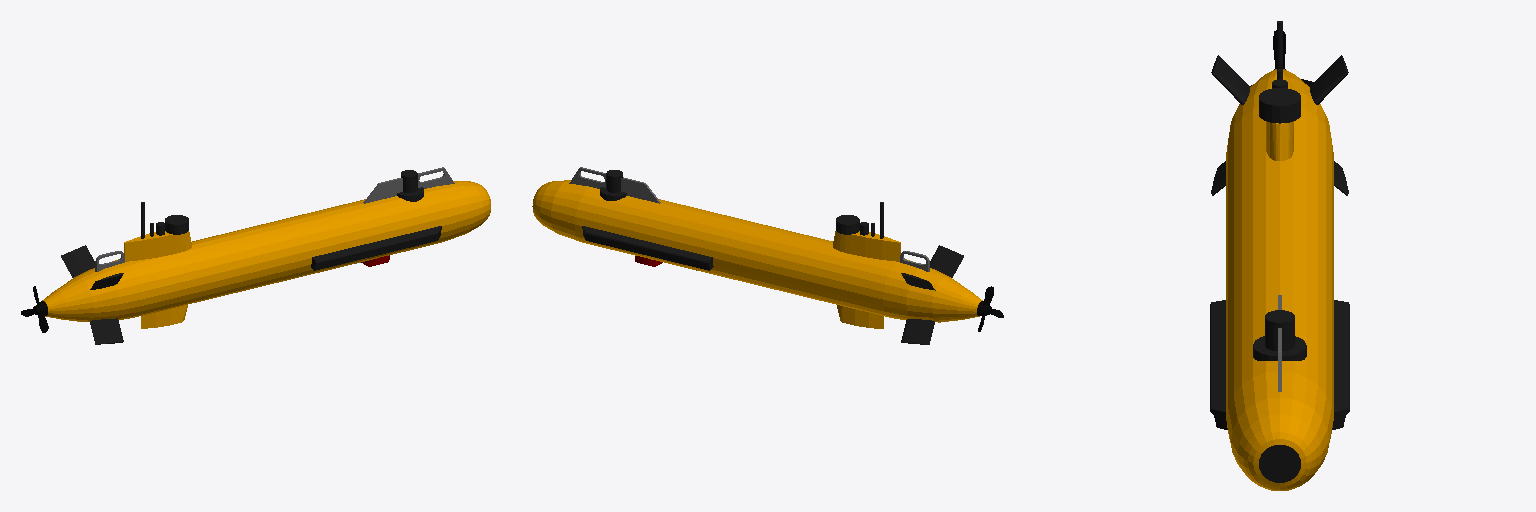
--- Facts derived from the render (not from the file) ---
Views: 3 orthographic renders of the robot side by side, from view 1: azimuth 30°, elevation 25°; view 2: azimuth 150°, elevation 25°; view 3: azimuth 270°, elevation 25°.
Robot: eca_a9 — 21 links, 20 joints (19 revolute, 1 continuous); root link eca_a9/base_link; default pose: every joint at zero.
Links seen in each view (by area): view 1: eca_a9/base_link, eca_a9/fin1, eca_a9/fin3; view 2: eca_a9/base_link, eca_a9/fin2, eca_a9/fin0; view 3: eca_a9/base_link, eca_a9/fin0, eca_a9/fin3.
Link boxes in pixels (x1,y1,x2,y2): eca_a9/base_link: [42, 167, 490, 328]; eca_a9/fin1: [90, 319, 123, 344]; eca_a9/fin3: [61, 245, 94, 275]; eca_a9/base_link: [532, 167, 982, 328]; eca_a9/fin2: [901, 320, 934, 344]; eca_a9/fin0: [930, 245, 963, 275]; eca_a9/base_link: [1210, 21, 1349, 490]; eca_a9/fin0: [1211, 55, 1247, 103]; eca_a9/fin3: [1312, 55, 1348, 103].
Size in the robot's own frame: 1.99 by 0.301 by 0.5295 metres.
6 mesh visuals loaded from 6 distinct referenced files (3 Collada DAE); not drawn: 3 (reference not matched to a file when rendering).

URDF robot description (eca_a9):
<?xml version="1.0" ?>
<!-- =================================================================================== -->
<!-- |    This document was autogenerated by xacro from eca_a9_default.urdf.xacro      | -->
<!-- |    EDITING THIS FILE BY HAND IS NOT RECOMMENDED                                 | -->
<!-- =================================================================================== -->
<!-- Copyright (c) 2016 The UUV Simulator Authors.
     All rights reserved.

     Licensed under the Apache License, Version 2.0 (the "License");
     you may not use this file except in compliance with the License.
     You may obtain a copy of the License at

       http://www.apache.org/licenses/LICENSE-2.0

     Unless required by applicable law or agreed to in writing, software
     distributed under the License is distributed on an "AS IS" BASIS,
     WITHOUT WARRANTIES OR CONDITIONS OF ANY KIND, either express or implied.
     See the License for the specific language governing permissions and
     limitations under the License.
-->
<robot name="eca_a9" xmlns:xacro="http://www.ros.org/wiki/xacro">
  <!-- Some pretty colors -->
  <material name="blue">
    <color rgba="0.0 0.0 0.8 1.0"/>
  </material>
  <material name="green">
    <color rgba="0.0 0.8 0.0 1.0"/>
  </material>
  <material name="grey">
    <color rgba="0.7 0.7 0.7 1.0"/>
  </material>
  <material name="grey2">
    <color rgba="0.9 0.9 0.9 1.0"/>
  </material>
  <material name="red">
    <color rgba="0.8 0.0 0.0 1.0"/>
  </material>
  <material name="orange">
    <color rgba="1.0 0.5 0.0 1.0"/>
  </material>
  <material name="white">
    <color rgba="1.0 1.0 1.0 1.0"/>
  </material>
  <material name="black">
    <color rgba="0.05 0.05 0.05 1.0"/>
  </material>
  <!-- <xacro:macro name="fin_macro" params="namespace fin_id *origin">
      <xacro:fin_quadratic_macro
        namespace="${namespace}"
        parent_link="${namespace}/base_link"
        fin_id="${fin_id}"
        min_joint_limit="${-45*d2r}"
        max_joint_limit="${45*d2r}"
        mesh_filename="${fin_mesh_file}"
        fin_dynamics_time_constant="0.1"
        lift_constant="7.2"        
        drag_constant="6.3"   
        current_velocity_topic="current_velocity">
        <xacro:insert_block name="origin"/>
      </xacro:fin_quadratic_macro>
    </xacro:macro> -->
  <!-- ROTOR DYNAMICS MACROS -->
  <!-- First order dynamics -->
  <!--
    MACROS FOR CONVERSION FUNCTIONS BETWEEN ROTOR'S ANG. VELOCITY AND
    THRUSTER FORCE
  -->
  <!-- THRUSTER MODULE MACROS  -->
  <!--
    Thruster model with first order dynamic model for the rotor dynamics
    and a proportional non-linear steady-state conversion from the rotor's
    angular velocity to output thrust force
  -->
  <link name="eca_a9/base_link">
    <visual>
      <origin rpy="0 0 0" xyz="0 0 0"/>
      <geometry>
        <mesh filename="meshes/eca_a9.dae" scale="1 1 1"/>
      </geometry>
    </visual>
    <collision>
      <origin rpy="0 0 0" xyz="0 0 0"/>
      <geometry>
        <mesh filename="meshes/eca_a9.dae" scale="1 1 1"/>
      </geometry>
    </collision>
    <inertial>
      <mass value="69.7"/>
      <origin rpy="0 0 0" xyz="0 0 0"/>
      <inertia ixx="0.6" ixy="0" ixz="0" iyy="30.0" iyz="0" izz="35.0"/>
    </inertial>
  </link>
  <!-- Set up hydrodynamic plugin -->
  <gazebo>
    <plugin filename="libunderwater_object_ros_plugin.so" name="eca_a9_uuv_plugin">
      <fluid_density>1027.0</fluid_density>
      <flow_velocity_topic>hydrodynamics/current_velocity</flow_velocity_topic>
      <debug>0</debug>
      <link name="eca_a9/base_link">
        <volume>0.0679998770412</volume>
        <center_of_buoyancy>0 0 0.06</center_of_buoyancy>
        <neutrally_buoyant>0</neutrally_buoyant>
        <hydrodynamic_model>
          <type>fossen</type>
          <added_mass>
              4   0   0   0   0   0
              0   95  0   0   0   0
              0   0   75  0   0   0
              0   0   0   0.4 0   0
              0   0   0   0   27  0
              0   0   0   0   0   32
            </added_mass>
          <linear_damping_forward_speed>
              -8      0       0       0       0       0
              0       -162    0       0       0       150
              0       0       -108    0       -100    0
              0       0       0       -13     0       0
              0       0       37      0       -20     0
              0       -34     0       0       0       -32
            </linear_damping_forward_speed>
        </hydrodynamic_model>
      </link>
    </plugin>
  </gazebo>
  <joint name="eca_a9/fin0_joint" type="revolute">
    <limit effort="0" lower="-1.3962632" upper="1.3962632" velocity="0"/>
    <origin rpy="0.7904 -0.0998 -0.1003" xyz="-0.70777 -0.07876 0.078586"/>
    <axis xyz="0 0 1"/>
    <parent link="eca_a9/base_link"/>
    <child link="eca_a9/fin0"/>
  </joint>
  <link name="eca_a9/fin0">
    <inertial>
      <mass value="0.0001"/>
      <origin rpy="0 0 0" xyz="0 0 0"/>
      <inertia ixx="0.0" ixy="0.0" ixz="0.0" iyy="0.0" iyz="0.0" izz="0.0"/>
    </inertial>
    <visual>
      <origin rpy="0 0 0" xyz="0 0 0"/>
      <geometry>
        <mesh filename="meshes/eca_a9_fin.dae" scale="1 1 1"/>
      </geometry>
    </visual>
  </link>
  <gazebo>
    <plugin filename="libfin_ros_plugin.so" name="eca_a9_fin0_model">
      <dynamics>
        <type>FirstOrder</type>
        <timeConstant>0.1</timeConstant>
      </dynamics>
      <liftdrag>
        <type>TwoLines</type>
        <area>0.04155</area>
        <fluid_density>1027.0</fluid_density>
        <a0>0.0</a0>
        <alpha_stall>0.174533</alpha_stall>
        <cla>13.98</cla>
        <!-- ^= 0.244 when using deg -->
        <cla_stall>0.0</cla_stall>
        <cda>0.0</cda>
        <cda_stall></cda_stall>
      </liftdrag>
      <current_velocity_topic>current_velocity</current_velocity_topic>
      <fin_id>0</fin_id>
      <link_name>eca_a9/fin0</link_name>
      <joint_name>eca_a9/fin0_joint</joint_name>
    </plugin>
  </gazebo>
  <joint name="eca_a9/fin1_joint" type="revolute">
    <limit effort="0" lower="-1.3962632" upper="1.3962632" velocity="0"/>
    <origin rpy="2.3512 0.0998 -0.1003" xyz="-0.70777 -0.07876 -0.078586"/>
    <axis xyz="0 0 1"/>
    <parent link="eca_a9/base_link"/>
    <child link="eca_a9/fin1"/>
  </joint>
  <link name="eca_a9/fin1">
    <inertial>
      <mass value="0.0001"/>
      <origin rpy="0 0 0" xyz="0 0 0"/>
      <inertia ixx="0.0" ixy="0.0" ixz="0.0" iyy="0.0" iyz="0.0" izz="0.0"/>
    </inertial>
    <visual>
      <origin rpy="0 0 0" xyz="0 0 0"/>
      <geometry>
        <mesh filename="meshes/eca_a9_fin.dae" scale="1 1 1"/>
      </geometry>
    </visual>
  </link>
  <gazebo>
    <plugin filename="libfin_ros_plugin.so" name="eca_a9_fin1_model">
      <dynamics>
        <type>FirstOrder</type>
        <timeConstant>0.1</timeConstant>
      </dynamics>
      <liftdrag>
        <type>TwoLines</type>
        <area>0.04155</area>
        <fluid_density>1027.0</fluid_density>
        <a0>0.0</a0>
        <alpha_stall>0.174533</alpha_stall>
        <cla>13.98</cla>
        <!-- ^= 0.244 when using deg -->
        <cla_stall>0.0</cla_stall>
        <cda>0.0</cda>
        <cda_stall></cda_stall>
      </liftdrag>
      <current_velocity_topic>current_velocity</current_velocity_topic>
      <fin_id>1</fin_id>
      <link_name>eca_a9/fin1</link_name>
      <joint_name>eca_a9/fin1_joint</joint_name>
    </plugin>
  </gazebo>
  <joint name="eca_a9/fin2_joint" type="revolute">
    <limit effort="0" lower="-1.3962632" upper="1.3962632" velocity="0"/>
    <origin rpy="-2.3512 0.0998 0.1003" xyz="-0.70777 0.07876 -0.078586"/>
    <axis xyz="0 0 1"/>
    <parent link="eca_a9/base_link"/>
    <child link="eca_a9/fin2"/>
  </joint>
  <link name="eca_a9/fin2">
    <inertial>
      <mass value="0.0001"/>
      <origin rpy="0 0 0" xyz="0 0 0"/>
      <inertia ixx="0.0" ixy="0.0" ixz="0.0" iyy="0.0" iyz="0.0" izz="0.0"/>
    </inertial>
    <visual>
      <origin rpy="0 0 0" xyz="0 0 0"/>
      <geometry>
        <mesh filename="meshes/eca_a9_fin.dae" scale="1 1 1"/>
      </geometry>
    </visual>
  </link>
  <gazebo>
    <plugin filename="libfin_ros_plugin.so" name="eca_a9_fin2_model">
      <dynamics>
        <type>FirstOrder</type>
        <timeConstant>0.1</timeConstant>
      </dynamics>
      <liftdrag>
        <type>TwoLines</type>
        <area>0.04155</area>
        <fluid_density>1027.0</fluid_density>
        <a0>0.0</a0>
        <alpha_stall>0.174533</alpha_stall>
        <cla>13.98</cla>
        <!-- ^= 0.244 when using deg -->
        <cla_stall>0.0</cla_stall>
        <cda>0.0</cda>
        <cda_stall></cda_stall>
      </liftdrag>
      <current_velocity_topic>current_velocity</current_velocity_topic>
      <fin_id>2</fin_id>
      <link_name>eca_a9/fin2</link_name>
      <joint_name>eca_a9/fin2_joint</joint_name>
    </plugin>
  </gazebo>
  <joint name="eca_a9/fin3_joint" type="revolute">
    <limit effort="0" lower="-1.3962632" upper="1.3962632" velocity="0"/>
    <origin rpy="-0.7904 -0.0998 0.1003" xyz="-0.70777 0.07876 0.078586"/>
    <axis xyz="0 0 1"/>
    <parent link="eca_a9/base_link"/>
    <child link="eca_a9/fin3"/>
  </joint>
  <link name="eca_a9/fin3">
    <inertial>
      <mass value="0.0001"/>
      <origin rpy="0 0 0" xyz="0 0 0"/>
      <inertia ixx="0.0" ixy="0.0" ixz="0.0" iyy="0.0" iyz="0.0" izz="0.0"/>
    </inertial>
    <visual>
      <origin rpy="0 0 0" xyz="0 0 0"/>
      <geometry>
        <mesh filename="meshes/eca_a9_fin.dae" scale="1 1 1"/>
      </geometry>
    </visual>
  </link>
  <gazebo>
    <plugin filename="libfin_ros_plugin.so" name="eca_a9_fin3_model">
      <dynamics>
        <type>FirstOrder</type>
        <timeConstant>0.1</timeConstant>
      </dynamics>
      <liftdrag>
        <type>TwoLines</type>
        <area>0.04155</area>
        <fluid_density>1027.0</fluid_density>
        <a0>0.0</a0>
        <alpha_stall>0.174533</alpha_stall>
        <cla>13.98</cla>
        <!-- ^= 0.244 when using deg -->
        <cla_stall>0.0</cla_stall>
        <cda>0.0</cda>
        <cda_stall></cda_stall>
      </liftdrag>
      <current_velocity_topic>current_velocity</current_velocity_topic>
      <fin_id>3</fin_id>
      <link_name>eca_a9/fin3</link_name>
      <joint_name>eca_a9/fin3_joint</joint_name>
    </plugin>
  </gazebo>
  <joint name="eca_a9/thruster_0_joint" type="continuous">
    <origin rpy="0 0 3.14159265359" xyz="-0.9676 0 0"/>
    <axis xyz="1 0 0"/>
    <parent link="eca_a9/base_link"/>
    <child link="eca_a9/thruster_0"/>
  </joint>
  <link name="eca_a9/thruster_0">
    <inertial>
      <mass value="0.001"/>
      <origin rpy="0 0 0" xyz="0 0 0"/>
      <inertia ixx="0.0" ixy="0.0" ixz="0.0" iyy="0.0" iyz="0.0" izz="0.0"/>
    </inertial>
    <visual>
      <origin rpy="0 0 0" xyz="0 0 0"/>
      <geometry>
        <mesh filename="meshes/eca_a9_propeller.dae" scale="1 1 1"/>
      </geometry>
    </visual>
    <collision>
      <!-- todo: gazebo needs a collision volume or it will ignore the pose of
           the joint that leads to this link (and assume it to be the identity) -->
      <geometry>
        <cylinder length="0.000001" radius="0.000001"/>
      </geometry>
      <origin rpy="0 0 0" xyz="0 0 0"/>
    </collision>
  </link>
  <gazebo>
    <plugin filename="libthruster_ros_plugin.so" name="eca_a9_0_thruster_model">
      <linkName>eca_a9/thruster_0</linkName>
      <jointName>eca_a9/thruster_0_joint</jointName>
      <thrusterID>0</thrusterID>
      <dynamics>
        <type>FirstOrder</type>
        <timeConstant>0.1</timeConstant>
      </dynamics>
      <conversion>
        <type>Basic</type>
        <rotorConstant>4.9e-05</rotorConstant>
      </conversion>
    </plugin>
  </gazebo>
  <gazebo reference="eca_a9/thruster_0">
    <selfCollide>false</selfCollide>
  </gazebo>
  <link name="eca_a9/battery_link">
    <inertial>
      <inertia ixx="0.00001" ixy="0.0" ixz="0.0" iyy="0.00001" iyz="0.0" izz="0.00001"/>
      <mass value="0.001"/>
      <origin rpy="0 0 0" xyz="0 0 0"/>
    </inertial>
  </link>
  <joint name="eca_a9/battery_joint" type="revolute">
    <origin rpy="0 0 0" xyz="0 0 0"/>
    <parent link="eca_a9/base_link"/>
    <child link="eca_a9/battery_link"/>
    <axis xyz="1 0 0"/>
    <limit effort="0" lower="0" upper="0" velocity="0"/>
  </joint>
  <gazebo reference="eca_a9/battery_link">
    <battery name="eca_a9/battery">
      <voltage>4.2</voltage>
    </battery>
  </gazebo>
  <gazebo>
    <plugin filename="liblinear_battery_ros_plugin.so" name="eca_a9_linear_battery_ros_plugin">
      <namespace>eca_a9</namespace>
      <link_name>eca_a9/battery_link</link_name>
      <battery_name>eca_a9/battery</battery_name>
      <open_circuit_voltage_constant_coef>3.7</open_circuit_voltage_constant_coef>
      <open_circuit_voltage_linear_coef>-3.1424</open_circuit_voltage_linear_coef>
      <initial_charge>1.1665</initial_charge>
      <capacity>0.5</capacity>
      <resistance>0.002</resistance>
      <smooth_current_tau>1.9499</smooth_current_tau>
      <update_rate>2.0</update_rate>
    </plugin>
  </gazebo>
  <!-- Mount a 3D pose sensor -->
  <link name="eca_a9/pose_sensor_link_default">
    <inertial>
      <inertia ixx="0.00001" ixy="0.0" ixz="0.0" iyy="0.00001" iyz="0.0" izz="0.00001"/>
      <mass value="0.001"/>
      <!-- [kg] -->
      <origin rpy="0 0 0" xyz="0 0 0"/>
    </inertial>
  </link>
  <joint name="eca_a9/pose_sensor_default_joint" type="revolute">
    <origin rpy="0 0 0" xyz="0 0 0"/>
    <axis xyz="0 0 1"/>
    <parent link="eca_a9/base_link"/>
    <child link="eca_a9/pose_sensor_link_default"/>
    <limit effort="0" lower="0" upper="0" velocity="0"/>
  </joint>
  <gazebo>
    <plugin filename="libuuv_gazebo_ros_pose_gt_plugin.so" name="pose_3d_plugin">
      <robot_namespace>eca_a9</robot_namespace>
      <link_name>eca_a9/base_link</link_name>
      <sensor_topic>pose_gt</sensor_topic>
      <static_reference_frame>world</static_reference_frame>
      <noise_sigma>0.0</noise_sigma>
      <noise_amplitude>0.0</noise_amplitude>
      <update_rate>20</update_rate>
      <enable_gazebo_messages>false</enable_gazebo_messages>
      <publish_ned_odom>false</publish_ned_odom>
    </plugin>
  </gazebo>
  <link name="eca_a9/dvl_link">
    <inertial>
      <mass value="0.001"/>
      <!-- [kg] -->
      <origin rpy="0 0 0" xyz="0 0 0"/>
      <inertia ixx="0.000000017" ixy="0" ixz="0" iyy="0.000000017" iyz="0" izz="0.000000017"/>
    </inertial>
    <visual>
      <geometry>
        <mesh filename="meshes/dvl.dae" scale="0.62 0.62 0.62"/>
      </geometry>
    </visual>
    <collision>
      <geometry>
        <cylinder length="1e-06" radius="1e-06"/>
      </geometry>
      <origin rpy="0 1.57079632679 0" xyz="0 0 0"/>
    </collision>
  </link>
  <joint name="eca_a9/dvl_joint" type="revolute">
    <origin rpy="0 1.57079632679 0" xyz="0.4785 0.0 -0.0825"/>
    <parent link="eca_a9/base_link"/>
    <child link="eca_a9/dvl_link"/>
    <limit effort="0" lower="0" upper="0" velocity="0"/>
    <axis xyz="1 0 0"/>
  </joint>
  <link name="eca_a9/dvl_sonar0_link">
    <inertial>
      <mass value="0.001"/>
      <!-- [kg] -->
      <origin rpy="0 0 0" xyz="0 0 0"/>
      <inertia ixx="0.000000017" ixy="0" ixz="0" iyy="0.000000017" iyz="0" izz="0.000000017"/>
    </inertial>
    <collision>
      <geometry>
        <cylinder length="1e-06" radius="1e-06"/>
      </geometry>
      <origin rpy="0 1.57079632679 0" xyz="0 0 0"/>
    </collision>
  </link>
  <joint name="eca_a9/dvl_sonar0_joint" type="revolute">
    <origin rpy="0 -0.52 0.0" xyz="0 0 0"/>
    <parent link="eca_a9/dvl_link"/>
    <child link="eca_a9/dvl_sonar0_link"/>
    <limit effort="0" lower="0" upper="0" velocity="0"/>
    <axis xyz="1 0 0"/>
  </joint>
  <gazebo reference="eca_a9/dvl_sonar0_link">
    <sensor name="dvl_sonar0" type="ray">
      <pose>0 0 0 0 0 0</pose>
      <update_rate>1</update_rate>
      <visualize>false</visualize>
      <ray>
        <scan>
          <horizontal>
            <samples>3</samples>
            <resolution>1</resolution>
            <min_angle>-0.03</min_angle>
            <max_angle>0.03</max_angle>
          </horizontal>
          <vertical>
            <samples>3</samples>
            <resolution>1</resolution>
            <min_angle>-0.03</min_angle>
            <max_angle>0.03</max_angle>
          </vertical>
        </scan>
        <range>
          <min>0.55</min>
          <max>81</max>
          <resolution>0.01</resolution>
        </range>
      </ray>
      <plugin filename="libgazebo_ros_range.so" name="dvl_sonar0">
        <gaussianNoise>0.005</gaussianNoise>
        <alwaysOn>true</alwaysOn>
        <updateRate>1</updateRate>
        <topicName>dvl_sonar0</topicName>
        <frameName>eca_a9/dvl_sonar0_link</frameName>
        <fov>0.06</fov>
        <radiation>ultrasound</radiation>
      </plugin>
    </sensor>
  </gazebo>
  <link name="eca_a9/dvl_sonar1_link">
    <inertial>
      <mass value="0.001"/>
      <!-- [kg] -->
      <origin rpy="0 0 0" xyz="0 0 0"/>
      <inertia ixx="0.000000017" ixy="0" ixz="0" iyy="0.000000017" iyz="0" izz="0.000000017"/>
    </inertial>
    <collision>
      <geometry>
        <cylinder length="1e-06" radius="1e-06"/>
      </geometry>
      <origin rpy="0 1.57079632679 0" xyz="0 0 0"/>
    </collision>
  </link>
  <joint name="eca_a9/dvl_sonar1_joint" type="revolute">
    <origin rpy="0 0 0.52" xyz="0 0 0"/>
    <parent link="eca_a9/dvl_link"/>
    <child link="eca_a9/dvl_sonar1_link"/>
    <limit effort="0" lower="0" upper="0" velocity="0"/>
    <axis xyz="1 0 0"/>
  </joint>
  <gazebo reference="eca_a9/dvl_sonar1_link">
    <sensor name="dvl_sonar1" type="ray">
      <pose>0 0 0 0 0 0</pose>
      <update_rate>1</update_rate>
      <visualize>false</visualize>
      <ray>
        <scan>
          <horizontal>
            <samples>3</samples>
            <resolution>1</resolution>
            <min_angle>-0.03</min_angle>
            <max_angle>0.03</max_angle>
          </horizontal>
          <vertical>
            <samples>3</samples>
            <resolution>1</resolution>
            <min_angle>-0.03</min_angle>
            <max_angle>0.03</max_angle>
          </vertical>
        </scan>
        <range>
          <min>0.55</min>
          <max>81</max>
          <resolution>0.01</resolution>
        </range>
      </ray>
      <plugin filename="libgazebo_ros_range.so" name="dvl_sonar1">
        <gaussianNoise>0.005</gaussianNoise>
        <alwaysOn>true</alwaysOn>
        <updateRate>1</updateRate>
        <topicName>dvl_sonar1</topicName>
        <frameName>eca_a9/dvl_sonar1_link</frameName>
        <fov>0.06</fov>
        <radiation>ultrasound</radiation>
      </plugin>
    </sensor>
  </gazebo>
  <link name="eca_a9/dvl_sonar2_link">
    <inertial>
      <mass value="0.001"/>
      <!-- [kg] -->
      <origin rpy="0 0 0" xyz="0 0 0"/>
      <inertia ixx="0.000000017" ixy="0" ixz="0" iyy="0.000000017" iyz="0" izz="0.000000017"/>
    </inertial>
    <collision>
      <geometry>
        <cylinder length="1e-06" radius="1e-06"/>
      </geometry>
      <origin rpy="0 1.57079632679 0" xyz="0 0 0"/>
    </collision>
  </link>
  <joint name="eca_a9/dvl_sonar2_joint" type="revolute">
    <origin rpy="0 0.52 0.0" xyz="0 0 0"/>
    <parent link="eca_a9/dvl_link"/>
    <child link="eca_a9/dvl_sonar2_link"/>
    <limit effort="0" lower="0" upper="0" velocity="0"/>
    <axis xyz="1 0 0"/>
  </joint>
  <gazebo reference="eca_a9/dvl_sonar2_link">
    <sensor name="dvl_sonar2" type="ray">
      <pose>0 0 0 0 0 0</pose>
      <update_rate>1</update_rate>
      <visualize>false</visualize>
      <ray>
        <scan>
          <horizontal>
            <samples>3</samples>
            <resolution>1</resolution>
            <min_angle>-0.03</min_angle>
            <max_angle>0.03</max_angle>
          </horizontal>
          <vertical>
            <samples>3</samples>
            <resolution>1</resolution>
            <min_angle>-0.03</min_angle>
            <max_angle>0.03</max_angle>
          </vertical>
        </scan>
        <range>
          <min>0.55</min>
          <max>81</max>
          <resolution>0.01</resolution>
        </range>
      </ray>
      <plugin filename="libgazebo_ros_range.so" name="dvl_sonar2">
        <gaussianNoise>0.005</gaussianNoise>
        <alwaysOn>true</alwaysOn>
        <updateRate>1</updateRate>
        <topicName>dvl_sonar2</topicName>
        <frameName>eca_a9/dvl_sonar2_link</frameName>
        <fov>0.06</fov>
        <radiation>ultrasound</radiation>
      </plugin>
    </sensor>
  </gazebo>
  <link name="eca_a9/dvl_sonar3_link">
    <inertial>
      <mass value="0.001"/>
      <!-- [kg] -->
      <origin rpy="0 0 0" xyz="0 0 0"/>
      <inertia ixx="0.000000017" ixy="0" ixz="0" iyy="0.000000017" iyz="0" izz="0.000000017"/>
    </inertial>
    <collision>
      <geometry>
        <cylinder length="1e-06" radius="1e-06"/>
      </geometry>
      <origin rpy="0 1.57079632679 0" xyz="0 0 0"/>
    </collision>
  </link>
  <joint name="eca_a9/dvl_sonar3_joint" type="revolute">
    <origin rpy="0 0.0 -0.52" xyz="0 0 0"/>
    <parent link="eca_a9/dvl_link"/>
    <child link="eca_a9/dvl_sonar3_link"/>
    <limit effort="0" lower="0" upper="0" velocity="0"/>
    <axis xyz="1 0 0"/>
  </joint>
  <gazebo reference="eca_a9/dvl_sonar3_link">
    <sensor name="dvl_sonar3" type="ray">
      <pose>0 0 0 0 0 0</pose>
      <update_rate>1</update_rate>
      <visualize>false</visualize>
      <ray>
        <scan>
          <horizontal>
            <samples>3</samples>
            <resolution>1</resolution>
            <min_angle>-0.03</min_angle>
            <max_angle>0.03</max_angle>
          </horizontal>
          <vertical>
            <samples>3</samples>
            <resolution>1</resolution>
            <min_angle>-0.03</min_angle>
            <max_angle>0.03</max_angle>
          </vertical>
        </scan>
        <range>
          <min>0.55</min>
          <max>81</max>
          <resolution>0.01</resolution>
        </range>
      </ray>
      <plugin filename="libgazebo_ros_range.so" name="dvl_sonar3">
        <gaussianNoise>0.005</gaussianNoise>
        <alwaysOn>true</alwaysOn>
        <updateRate>1</updateRate>
        <topicName>dvl_sonar3</topicName>
        <frameName>eca_a9/dvl_sonar3_link</frameName>
        <fov>0.06</fov>
        <radiation>ultrasound</radiation>
      </plugin>
    </sensor>
  </gazebo>
  <gazebo>
    <plugin filename="libuuv_gazebo_ros_dvl_plugin.so" name="libuuv_gazebo_dvl_plugin">
      <robot_namespace>eca_a9</robot_namespace>
      <!-- (string, required): ros namespace in which the messages are published -->
      <link_name>eca_a9/dvl_link</link_name>
      <!-- (string, required): name of the body which holds the IMU sensor -->
      <sensor_topic>dvl</sensor_topic>
      <!-- (string): name of the sensor output topic and prefix of service names -->
      <update_rate>7</update_rate>
      <!-- Update period [s] -->
      <noise_sigma>0</noise_sigma>
      <!-- std dev of position estimates in x, y, z [m/s] -->
      <noise_amplitude>0</noise_amplitude>
      <enable_gazebo_messages>false</enable_gazebo_messages>
      <enable_local_ned_frame>false</enable_local_ned_frame>
      <static_reference_frame>world</static_reference_frame>
      <!-- Declaring the beams -->
      <beam_link_name_0>eca_a9/dvl_sonar0_link</beam_link_name_0>
      <beam_link_name_1>eca_a9/dvl_sonar1_link</beam_link_name_1>
      <beam_link_name_2>eca_a9/dvl_sonar2_link</beam_link_name_2>
      <beam_link_name_3>eca_a9/dvl_sonar3_link</beam_link_name_3>
      <!-- Declaring the beam output topics -->
      <beam_topic_0>dvl_sonar0</beam_topic_0>
      <beam_topic_1>dvl_sonar1</beam_topic_1>
      <beam_topic_2>dvl_sonar2</beam_topic_2>
      <beam_topic_3>dvl_sonar3</beam_topic_3>
    </plugin>
  </gazebo>
  <gazebo>
    <plugin filename="libcustom_battery_consumer_ros_plugin.so" name="eca_a9/dvl_link_battery_consumer">
      <link_name>eca_a9/battery_link</link_name>
      <battery_name>eca_a9/battery</battery_name>
      <power_load>25</power_load>
      <topic_device_state>eca_a9/dvl/state</topic_device_state>
    </plugin>
  </gazebo>
  <!-- Sensor link -->
  <link name="eca_a9/sonarleft_link">
    <inertial>
      <inertia ixx="0.00001" ixy="0.0" ixz="0.0" iyy="0.00001" iyz="0.0" izz="0.00001"/>
      <mass value="0.015"/>
      <origin rpy="0 0 0" xyz="0 0 0"/>
    </inertial>
    <visual>
      <origin rpy="0 0 0" xyz="0 0 0"/>
      <geometry>
        <box size="0.001 0.001 0.001"/>
      </geometry>
    </visual>
    <collision>
      <geometry>
        <cylinder length="1e-06" radius="1e-06"/>
      </geometry>
      <origin rpy="0 1.57079632679 0" xyz="0 0 0"/>
    </collision>
  </link>
  <joint name="eca_a9_sonarleft_joint" type="revolute">
    <origin rpy="1.57079632679 0.959931101197 1.57079632679" xyz="0.41225 0.1498 -0.04615"/>
    <parent link="eca_a9/base_link"/>
    <child link="eca_a9/sonarleft_link"/>
    <limit effort="0" lower="0" upper="0" velocity="0"/>
    <axis xyz="1 0 0"/>
  </joint>
  <gazebo reference="eca_a9/sonarleft_link">
    <sensor name="sonarleft" type="gpu_ray">
      <pose>0 0 0 0 0 0</pose>
      <visualize>false</visualize>
      <update_rate>2</update_rate>
      <ray>
        <scan>
          <horizontal>
            <samples>60</samples>
            <resolution>1</resolution>
            <min_angle>-0.523598775598</min_angle>
            <max_angle>0.523598775598</max_angle>
          </horizontal>
        </scan>
        <range>
          <min>1.0</min>
          <max>200.0</max>
          <resolution>0.01</resolution>
        </range>
        <noise>
          <type>gaussian</type>
          <mean>0.0</mean>
          <stddev>0.027</stddev>
        </noise>
      </ray>
      <plugin filename="libgazebo_ros_gpu_laser.so" name="sonarleft_controller">
        <topicName>sss_left</topicName>
        <frameName>sonarleft_link</frameName>
      </plugin>
      <!-- TODO: Separate switchable sonar version in another macro -->
      <!-- <plugin name="switchable_sonar{suffix}_ros_interface" filename="libuuv_gazebo_ros_switchable_gpu_ray_sensor.so">
          <namespace>${namespace}</namespace>
          <input_topic>${topic}</input_topic>
      </plugin> -->
    </sensor>
  </gazebo>
  <gazebo>
    <plugin filename="libcustom_battery_consumer_ros_plugin.so" name="eca_a9/sonarleft_link_battery_consumer">
      <link_name>eca_a9/battery_link</link_name>
      <battery_name>eca_a9/battery</battery_name>
      <power_load>25</power_load>
      <topic_device_state>eca_a9/sonarleft/state</topic_device_state>
    </plugin>
  </gazebo>
  <!-- Sensor link -->
  <link name="eca_a9/sonarright_link">
    <inertial>
      <inertia ixx="0.00001" ixy="0.0" ixz="0.0" iyy="0.00001" iyz="0.0" izz="0.00001"/>
      <mass value="0.015"/>
      <origin rpy="0 0 0" xyz="0 0 0"/>
    </inertial>
    <visual>
      <origin rpy="0 0 0" xyz="0 0 0"/>
      <geometry>
        <box size="0.001 0.001 0.001"/>
      </geometry>
    </visual>
    <collision>
      <geometry>
        <cylinder length="1e-06" radius="1e-06"/>
      </geometry>
      <origin rpy="0 1.57079632679 0" xyz="0 0 0"/>
    </collision>
  </link>
  <joint name="eca_a9_sonarright_joint" type="revolute">
    <origin rpy="1.57079632679 0.959931101197 -1.57079632679" xyz="0.41225 -0.1498 -0.04615"/>
    <parent link="eca_a9/base_link"/>
    <child link="eca_a9/sonarright_link"/>
    <limit effort="0" lower="0" upper="0" velocity="0"/>
    <axis xyz="1 0 0"/>
  </joint>
  <gazebo reference="eca_a9/sonarright_link">
    <sensor name="sonarright" type="gpu_ray">
      <pose>0 0 0 0 0 0</pose>
      <visualize>false</visualize>
      <update_rate>2</update_rate>
      <ray>
        <scan>
          <horizontal>
            <samples>60</samples>
            <resolution>1</resolution>
            <min_angle>-0.523598775598</min_angle>
            <max_angle>0.523598775598</max_angle>
          </horizontal>
        </scan>
        <range>
          <min>1.0</min>
          <max>200.0</max>
          <resolution>0.01</resolution>
        </range>
        <noise>
          <type>gaussian</type>
          <mean>0.0</mean>
          <stddev>0.027</stddev>
        </noise>
      </ray>
      <plugin filename="libgazebo_ros_gpu_laser.so" name="sonarright_controller">
        <topicName>sss_right</topicName>
        <frameName>sonarright_link</frameName>
      </plugin>
      <!-- TODO: Separate switchable sonar version in another macro -->
      <!-- <plugin name="switchable_sonar{suffix}_ros_interface" filename="libuuv_gazebo_ros_switchable_gpu_ray_sensor.so">
          <namespace>${namespace}</namespace>
          <input_topic>${topic}</input_topic>
      </plugin> -->
    </sensor>
  </gazebo>
  <gazebo>
    <plugin filename="libcustom_battery_consumer_ros_plugin.so" name="eca_a9/sonarright_link_battery_consumer">
      <link_name>eca_a9/battery_link</link_name>
      <battery_name>eca_a9/battery</battery_name>
      <power_load>25</power_load>
      <topic_device_state>eca_a9/sonarright/state</topic_device_state>
    </plugin>
  </gazebo>
  <!-- RPT
    <xacro:default_rpt namespace="${namespace}" parent_link="${namespace}/base_link">
      <origin xyz="0 0 0" rpy="0 0 0"/>
    </xacro:default_rpt>  -->
  <link name="eca_a9/pressure_link">
    <inertial>
      <inertia ixx="0.00001" ixy="0.0" ixz="0.0" iyy="0.00001" iyz="0.0" izz="0.00001"/>
      <mass value="0.015"/>
      <!-- [kg] -->
      <origin rpy="0 0 0" xyz="0 0 0"/>
    </inertial>
    <visual>
      <geometry>
        <mesh filename="meshes/pressure.dae" scale="1 1 1"/>
      </geometry>
    </visual>
    <collision>
      <geometry>
        <cylinder length="1e-06" radius="1e-06"/>
      </geometry>
      <origin rpy="0 1.57079632679 0" xyz="0 0 0"/>
    </collision>
  </link>
  <joint name="eca_a9/pressure_joint" type="revolute">
    <origin rpy="0 0 0" xyz="0 0 0"/>
    <parent link="eca_a9/base_link"/>
    <child link="eca_a9/pressure_link"/>
    <limit effort="0" lower="0" upper="0" velocity="0"/>
    <axis xyz="1 0 0"/>
  </joint>
  <gazebo>
    <plugin filename="libuuv_gazebo_ros_subsea_pressure_plugin.so" name="libuuv_gazebo_subseapressure_plugin">
      <robot_namespace>eca_a9</robot_namespace>
      <!-- (string, required): ros namespace in which the messages are published -->
      <link_name>eca_a9/pressure_link</link_name>
      <!-- (string, required): name of the body which holds the IMU sensor -->
      <sensor_topic>pressure</sensor_topic>
      <!-- (string): name of the sensor output topic and prefix of service names (defaults to imu) -->
      <update_rate>10</update_rate>
      <!-- Update period of accelerometer and gyroscope [s] -->
      <saturation>30000</saturation>
      <!-- measurement range [kPa] -->
      <noise_sigma>3.0</noise_sigma>
      <!-- measurement stddev [kPa] -->
      <noise_amplitude>0.0</noise_amplitude>
      <estimate_depth_on>false</estimate_depth_on>
      <!-- infer depth? -->
      <standard_pressure>101.325</standard_pressure>
      <!-- pressure at sea level (depth 0 m) [kPa] -->
      <kPa_per_meter>9.80638</kPa_per_meter>
      <!-- increase in pressure [kPa] per [m] in increased depth -->
      <enable_gazebo_messages>false</enable_gazebo_messages>
    </plugin>
  </gazebo>
  <gazebo>
    <plugin filename="libcustom_battery_consumer_ros_plugin.so" name="eca_a9/pressure_link_battery_consumer">
      <link_name>eca_a9/battery_link</link_name>
      <battery_name>eca_a9/battery</battery_name>
      <power_load>5</power_load>
      <topic_device_state>eca_a9/pressure/state</topic_device_state>
    </plugin>
  </gazebo>
  <!-- IMU link -->
  <link name="eca_a9/imu_link">
    <inertial>
      <inertia ixx="0.00001" ixy="0.0" ixz="0.0" iyy="0.00001" iyz="0.0" izz="0.00001"/>
      <mass value="0.015"/>
      <!-- [kg] -->
      <origin rpy="0 0 0" xyz="0 0 0"/>
    </inertial>
  </link>
  <!-- IMU joint -->
  <joint name="eca_a9/imu_joint" type="revolute">
    <origin rpy="0 0 0" xyz="0 0 0"/>
    <parent link="eca_a9/base_link"/>
    <child link="eca_a9/imu_link"/>
    <limit effort="0" lower="0" upper="0" velocity="0"/>
    <axis xyz="1 0 0"/>
  </joint>
  <gazebo>
    <plugin filename="libuuv_gazebo_ros_imu_plugin.so" name="libuuv_gazebo_imu_plugin">
      <!-- A good description of the IMU parameters can be found in the kalibr documentation:
           https://github.com/ethz-asl/kalibr/wiki/IMU-Noise-Model-and-Intrinsics -->
      <robot_namespace>eca_a9</robot_namespace>
      <!-- (string, required): ros namespace in which the messages are published -->
      <link_name>eca_a9/imu_link</link_name>
      <!-- (string, required): name of the body which holds the IMU sensor -->
      <sensor_topic>imu</sensor_topic>
      <!-- (string): name of the sensor output topic and prefix of service names (defaults to imu) -->
      <gyroscope_noise_density>0.0003394</gyroscope_noise_density>
      <!-- Gyroscope noise density (two-sided spectrum) [rad/s/sqrt(Hz)] -->
      <gyroscope_random_walk>3.8785e-05</gyroscope_random_walk>
      <!-- Gyroscope bias random walk [rad/s/s/sqrt(Hz)] -->
      <gyroscope_bias_correlation_time>1000.0</gyroscope_bias_correlation_time>
      <!-- Gyroscope bias correlation time constant [s] -->
      <gyroscope_turn_on_bias_sigma>0.0087</gyroscope_turn_on_bias_sigma>
      <!-- Gyroscope turn on bias standard deviation [rad/s] -->
      <accelerometer_noise_density>0.004</accelerometer_noise_density>
      <!-- Accelerometer noise density (two-sided spectrum) [m/s^2/sqrt(Hz)] -->
      <accelerometer_random_walk>0.006</accelerometer_random_walk>
      <!-- Accelerometer bias random walk. [m/s^2/s/sqrt(Hz)] -->
      <accelerometer_bias_correlation_time>300.0</accelerometer_bias_correlation_time>
      <!-- Accelerometer bias correlation time constant [s] -->
      <accelerometer_turn_on_bias_sigma>0.196</accelerometer_turn_on_bias_sigma>
      <!-- Accelerometer turn on bias standard deviation [m/s^2] -->
      <orientation_noise>0.01</orientation_noise>
      <update_rate>50</update_rate>
      <!-- Update period of accelerometer and gyroscope [s] -->
      <enable_gazebo_messages>false</enable_gazebo_messages>
      <enable_local_ned_frame>false</enable_local_ned_frame>
      <static_reference_frame>world</static_reference_frame>
    </plugin>
  </gazebo>
  <gazebo>
    <plugin filename="libcustom_battery_consumer_ros_plugin.so" name="eca_a9/imu_link_battery_consumer">
      <link_name>eca_a9/battery_link</link_name>
      <battery_name>eca_a9/battery</battery_name>
      <power_load>20</power_load>
      <topic_device_state>eca_a9/imu/state</topic_device_state>
    </plugin>
  </gazebo>
  <!-- Sensor link -->
  <link name="eca_a9/camera_link">
    <inertial>
      <inertia ixx="0.00001" ixy="0.0" ixz="0.0" iyy="0.00001" iyz="0.0" izz="0.00001"/>
      <mass value="0.015"/>
      <origin rpy="0 0 0" xyz="0 0 0"/>
    </inertial>
    <visual>
      <geometry>
        <mesh filename="meshes/oe14-372.dae" scale="0.5 0.5 0.5"/>
      </geometry>
    </visual>
    <collision>
      <geometry>
        <cylinder length="1e-06" radius="1e-06"/>
      </geometry>
      <origin rpy="0 1.57079632679 0" xyz="0 0 0"/>
    </collision>
  </link>
  <joint name="eca_a9/camera_joint" type="revolute">
    <origin rpy="0 0.3 0" xyz="-0.375 0 -0.16"/>
    <parent link="eca_a9/base_link"/>
    <child link="eca_a9/camera_link"/>
    <limit effort="0" lower="0" upper="0" velocity="0"/>
    <axis xyz="1 0 0"/>
  </joint>
  <link name="eca_a9/camera_link_optical">
    <inertial>
      <mass value="0.001"/>
      <origin rpy="0 0 0" xyz="0 0 0"/>
      <inertia ixx="1.666666e-12" ixy="0.0" ixz="0.0" iyy="1.666666e-12" iyz="0.0" izz="1.666666e-12"/>
    </inertial>
    <collision>
      <!-- todo: gazebo needs a collision volume or it will ignore the pose of
           the joint that leads to this link (and assume it to be the identity) -->
      <geometry>
        <cylinder length="0.000001" radius="0.000001"/>
      </geometry>
      <origin rpy="0 1.57079632679 0" xyz="0 0 0"/>
    </collision>
  </link>
  <joint name="eca_a9/camera_optical_joint" type="revolute">
    <origin rpy="-1.57079632679 0 -1.57079632679" xyz="0 0 0"/>
    <parent link="eca_a9/camera_link"/>
    <child link="eca_a9/camera_link_optical"/>
    <limit effort="0" lower="0" upper="0" velocity="0"/>
    <axis xyz="1 0 0"/>
  </joint>
  <gazebo reference="eca_a9/camera_link">
    <sensor name="camera" type="camera">
      <update_rate>30</update_rate>
      <camera name="camera">
        <horizontal_fov>1.8125</horizontal_fov>
        <image>
          <width>768</width>
          <height>492</height>
          <format>R8G8B8</format>
        </image>
        <clip>
          <near>0.05</near>
          <far>3000</far>
        </clip>
        <noise>
          <type>gaussian</type>
          <mean>0.0</mean>
          <stddev>0.02</stddev>
        </noise>
      </camera>
      <plugin filename="libgazebo_ros_camera.so" name="camera_controller">
        <updateRate>30</updateRate>
        <cameraName>eca_a9/camera</cameraName>
        <frameName>camera_link_optical</frameName>
        <attenuationR>0.0</attenuationR>
        <attenuationG>0.0</attenuationG>
        <attenuationB>0.0</attenuationB>
        <backgroundR>0</backgroundR>
        <backgroundG>0</backgroundG>
        <backgroundB>0</backgroundB>
        <!-- required for ros depth cam -->
        <imageTopicName>camera_image</imageTopicName>
        <pointCloudTopicName>camera_cloud</pointCloudTopicName>
        <depthImageTopicName>camera_depth</depthImageTopicName>
        <depthImageCameraInfoTopicName>camera_depth_info</depthImageCameraInfoTopicName>
        <pointCloudCutoff>10.0</pointCloudCutoff>
      </plugin>
    </sensor>
  </gazebo>
  <gazebo>
    <plugin filename="libcustom_battery_consumer_ros_plugin.so" name="eca_a9/camera_link_battery_consumer">
      <link_name>eca_a9/battery_link</link_name>
      <battery_name>eca_a9/battery</battery_name>
      <power_load>25</power_load>
      <topic_device_state></topic_device_state>
    </plugin>
  </gazebo>
  <!-- GPS link -->
  <link name="eca_a9/gps_link">
    <inertial>
      <inertia ixx="0.00001" ixy="0.0" ixz="0.0" iyy="0.00001" iyz="0.0" izz="0.00001"/>
      <mass value="0.001"/>
      <!-- [kg] -->
      <origin rpy="0 0 0" xyz="0 0 0"/>
    </inertial>
  </link>
  <!-- GPS joint -->
  <joint name="eca_a9/gps_joint" type="revolute">
    <origin rpy="0 0 0" xyz="0 0 0"/>
    <parent link="eca_a9/base_link"/>
    <child link="eca_a9/gps_link"/>
    <axis xyz="1 0 0"/>
    <limit effort="0" lower="0" upper="0" velocity="0"/>
  </joint>
  <gazebo reference="eca_a9/gps_link">
    <sensor name="eca_a9/gps" type="gps">
      <pose>0 0 0 0 0 0</pose>
      <visualize>0</visualize>
      <always_on>1</always_on>
      <update_rate>30</update_rate>
      <gps>
        <position_sensing>
          <horizontal>
            <noise type="gaussian">
              <mean>0.0</mean>
              <stddev>0.0</stddev>
              <bias_mean>0.0</bias_mean>
              <bias_stddev>0.0</bias_stddev>
            </noise>
          </horizontal>
          <vertical>
            <noise type="gaussian">
              <mean>0.0</mean>
              <stddev>0.0</stddev>
              <bias_mean>0.0</bias_mean>
              <bias_stddev>0.0</bias_stddev>
            </noise>
          </vertical>
        </position_sensing>
        <velocity_sensing>
          <horizontal>
            <noise type="gaussian">
              <mean>0.0</mean>
              <stddev>0.0</stddev>
              <bias_mean>0.0</bias_mean>
              <bias_stddev>0.0</bias_stddev>
            </noise>
          </horizontal>
          <vertical>
            <noise type="gaussian">
              <mean>0.0</mean>
              <stddev>0.0</stddev>
              <bias_mean>0.0</bias_mean>
              <bias_stddev>0.0</bias_stddev>
            </noise>
          </vertical>
        </velocity_sensing>
      </gps>
      <plugin filename="libuuv_gazebo_ros_gps_plugin.so" name="eca_a9_gazebo_gps_ros_plugin">
        <robot_namespace>eca_a9</robot_namespace>
        <sensor_topic>gps</sensor_topic>
        <horizontal_pos_std_dev>0.0</horizontal_pos_std_dev>
        <vertical_pos_std_dev>0.0</vertical_pos_std_dev>
        <update_rate>30</update_rate>
        <is_on>true</is_on>
        <enable_gazebo_messages>true</enable_gazebo_messages>
      </plugin>
    </sensor>
  </gazebo>
  <gazebo>
    <plugin filename="libcustom_battery_consumer_ros_plugin.so" name="eca_a9/gps_link_battery_consumer">
      <link_name>eca_a9/battery_link</link_name>
      <battery_name>eca_a9/battery</battery_name>
      <power_load>5</power_load>
      <topic_device_state></topic_device_state>
    </plugin>
  </gazebo>
  <!-- Sensor link -->
  <link name="eca_a9/cc_sensor_link">
    <inertial>
      <inertia ixx="0.00001" ixy="0.0" ixz="0.0" iyy="0.00001" iyz="0.0" izz="0.00001"/>
      <mass value="0.001"/>
      <!-- [kg] -->
      <origin rpy="0 0 0" xyz="0 0 0"/>
    </inertial>
  </link>
  <joint name="eca_a9/cc_sensor_joint" type="revolute">
    <origin rpy="0 0 0" xyz="0 0 0"/>
    <parent link="eca_a9/base_link"/>
    <child link="eca_a9/cc_sensor_link"/>
    <axis xyz="1 0 0"/>
    <limit effort="0" lower="0" upper="0" velocity="0"/>
  </joint>
  <gazebo>
    <plugin filename="libuuv_gazebo_ros_cpc_plugin.so" name="particle_concentration{suffix}_sensor">
      <robot_namespace>eca_a9</robot_namespace>
      <link_name>eca_a9/cc_sensor_link</link_name>
      <plume_topic>/plume/particles</plume_topic>
      <sensor_topic>particle_concentration</sensor_topic>
      <update_rate>10</update_rate>
      <gamma>0.001</gamma>
      <radius>3.0</radius>
      <enable_gazebo_messages>false</enable_gazebo_messages>
      <enable_local_ned_frame>false</enable_local_ned_frame>
      <static_reference_frame>world</static_reference_frame>
      <water_salinity_value>35.0</water_salinity_value>
      <plume_salinity_value>10.0</plume_salinity_value>
      <salinity_output_topic>salinity</salinity_output_topic>
      <salinity_unit>ppt</salinity_unit>
      <gain>1.0</gain>
      <noise_sigma>0</noise_sigma>
      <noise_amplitude>0</noise_amplitude>
    </plugin>
  </gazebo>
  <!-- Joint state publisher plugin -->
  <gazebo>
    <plugin filename="libjoint_state_publisher.so" name="joint_state_publisher">
      <robotNamespace>eca_a9</robotNamespace>
      <updateRate>50</updateRate>
    </plugin>
  </gazebo>
</robot>
